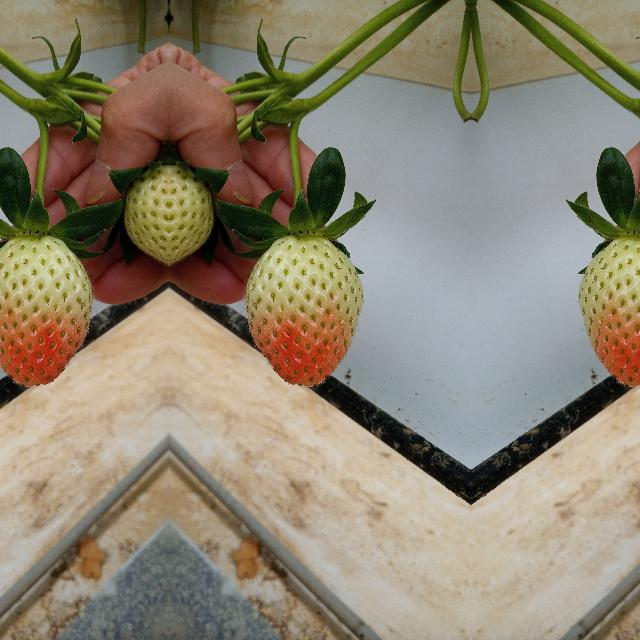Health_50: (242, 235, 362, 388), (0, 235, 94, 388), (578, 235, 640, 388)
